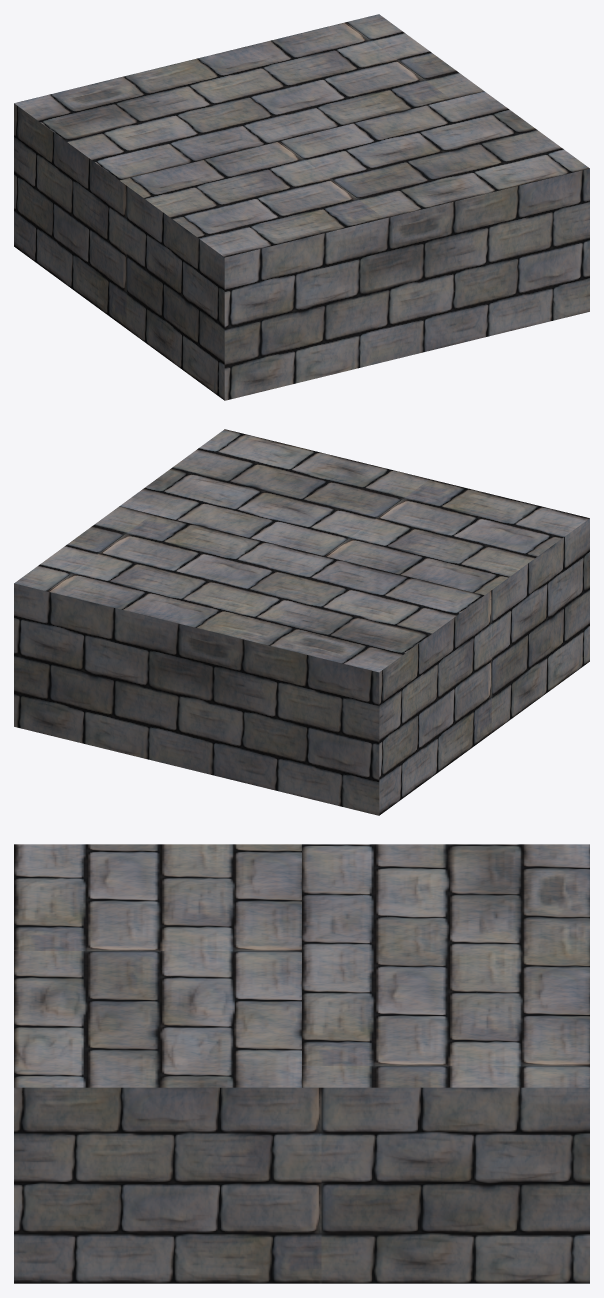
Rendered from platform_01.glb.
3 views of the same model, one above another, from view 1: azimuth 30°, elevation 25°; view 2: azimuth 150°, elevation 25°; view 3: azimuth 270°, elevation 25° (orthographic). The views are drawn at different scales.
Parts seen in each view (by area): view 1: platform_01; view 2: platform_01; view 3: platform_01.
Part boxes in pixels (x1,y1,x2,y2): platform_01: (14, 14, 589, 400); platform_01: (14, 429, 589, 815); platform_01: (14, 844, 589, 1283).
Bounding box in the file's own units: 8 × 3 × 8.
1 material, 1 textured.
